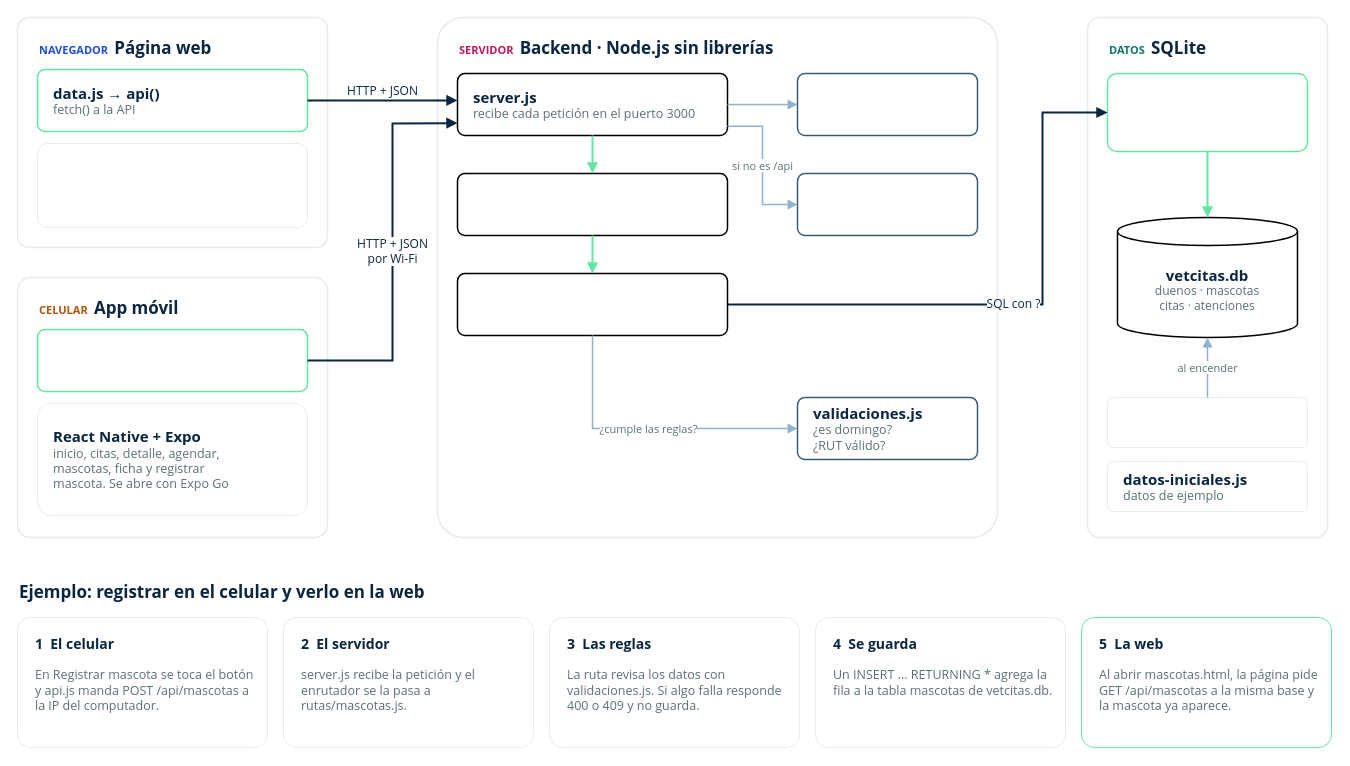
Image size: 1350x766. Some labels were removed from this diagram. The centre of each missing label's shape, as x and y in pixels:
api.js → api() fetch() a la IP del computador: point (172, 360)
archivos.js entrega las páginas de frontend/: point (887, 204)
datos/db.js abre la base y activa las claves foráneas: point (1207, 112)
esquema.sql las tablas y sus reglas: point (1207, 422)
HTML + CSS + JS inicio, citas, agendar cita, mascotas y ficha de mascota: point (172, 185)
http.js lee el JSON y responde (con CORS): point (887, 104)
rutas/ citas · duenos · mascotas · atenciones: point (592, 304)
utilidades/enrutador.js método + URL → la función que responde: point (592, 204)
